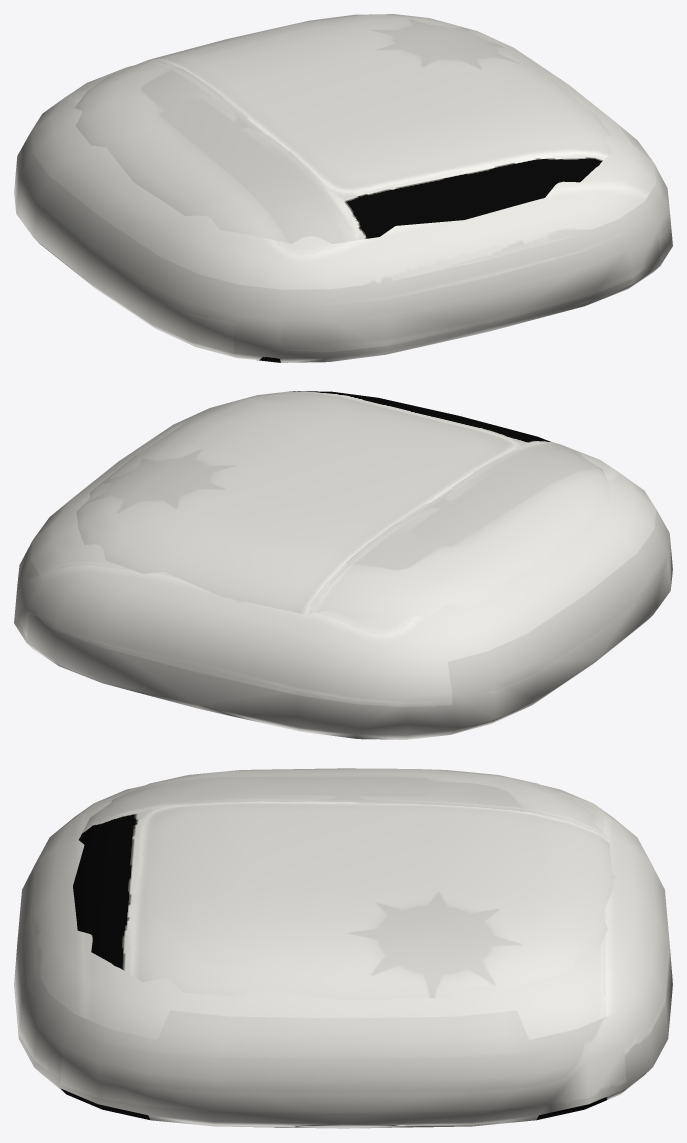
Rendered from Centinela_HombreraDer.fbx.
3 renders of one model, top to bottom at view 1: azimuth 30°, elevation 25°; view 2: azimuth 150°, elevation 25°; view 3: azimuth 270°, elevation 25°, orthographic. The views are drawn at different scales.
Parts seen in each view (by area): view 1: Centinela_HombreraDer; view 2: Centinela_HombreraDer; view 3: Centinela_HombreraDer.
Boxes of the visible parts, left/top/right/bottom form: Centinela_HombreraDer: left=14, top=14, right=672, bottom=362; Centinela_HombreraDer: left=14, top=391, right=672, bottom=739; Centinela_HombreraDer: left=14, top=768, right=672, bottom=1128.
Size of the model in its own units: 1.28 by 0.306 by 1.28.
